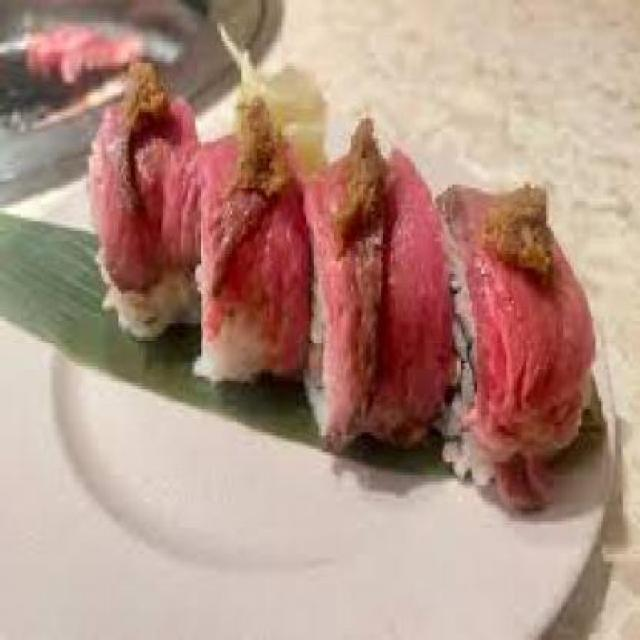steak: (87, 89, 556, 294), (27, 23, 139, 69)
sushi: (69, 92, 608, 525)
